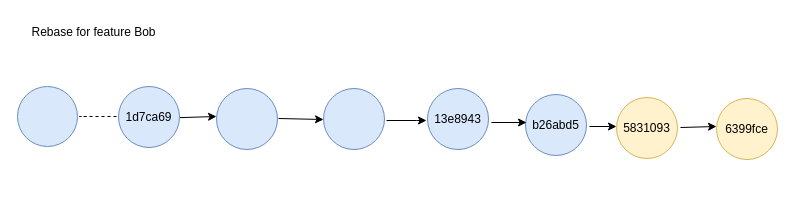
This 795x200 diagram has some shape labels left out. The shapes that lost their labels are listed below. From the top down, each one's centre as x and y in pixels, then its label:
At (x=247, y=119): "0ffb3e7".
At (x=353, y=119): "93be5d2".
